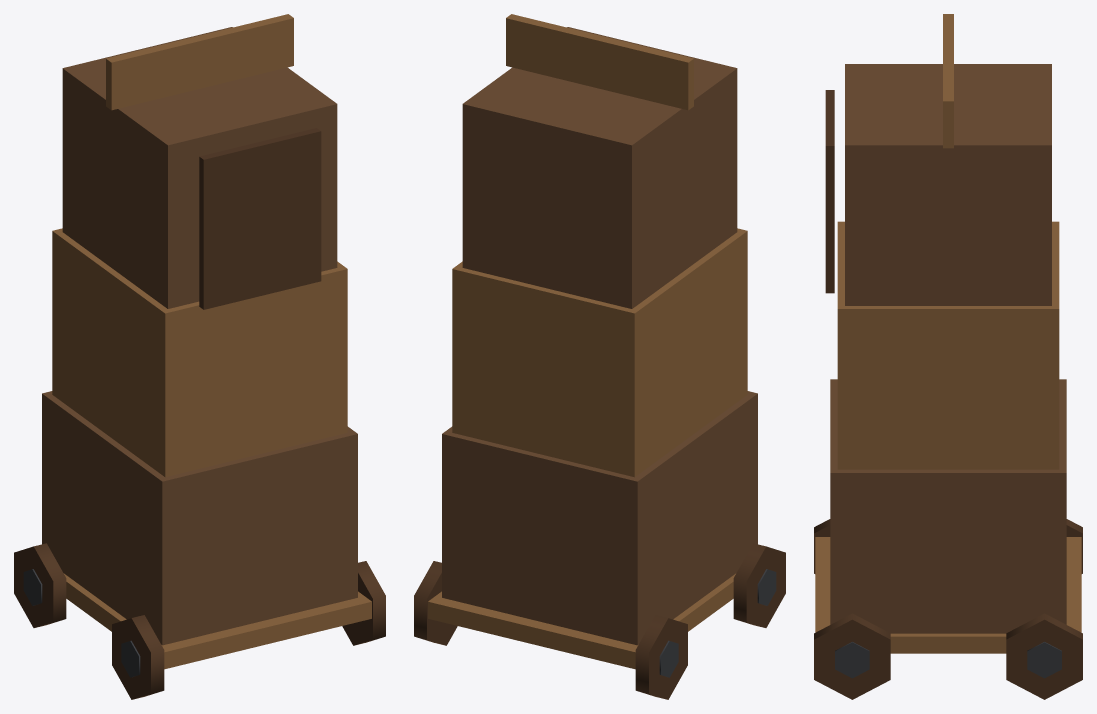
The model's file is unit_mil_siege_tower_a03_lod1.glb.
The picture shows the model from 3 angles, left to right: view 1: azimuth 30°, elevation 25°; view 2: azimuth 150°, elevation 25°; view 3: azimuth 270°, elevation 25°; orthographic projection.
Parts seen in each view (by area): view 1: body, bridge, wheel_0, wheel_2, wheel_3; view 2: body, wheel_2, wheel_0, wheel_1; view 3: body, wheel_1, wheel_3, bridge.
Part boxes in pixels (x1,y1,x2,y2): body: [42, 14, 371, 669]; bridge: [199, 128, 321, 309]; wheel_0: [14, 543, 66, 627]; wheel_2: [112, 615, 164, 699]; wheel_3: [342, 561, 385, 645]; body: [428, 14, 757, 669]; wheel_2: [733, 543, 785, 627]; wheel_0: [635, 615, 687, 699]; wheel_1: [414, 561, 457, 645]; body: [815, 14, 1081, 653]; wheel_1: [1006, 613, 1082, 699]; wheel_3: [814, 613, 890, 699]; bridge: [825, 90, 834, 293].
Size of the model in its own units: 3.64 by 8.75 by 3.64.
